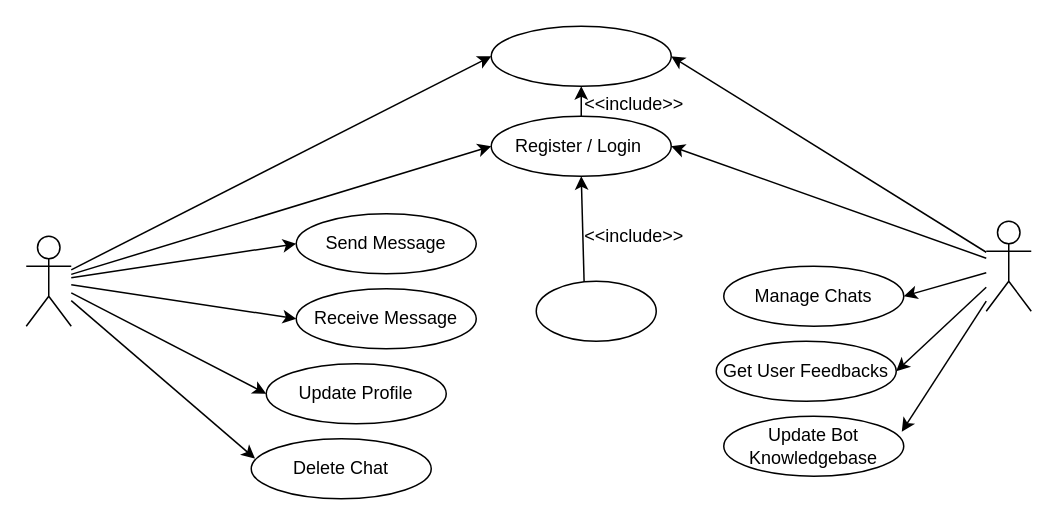
The diagram is 1061 pixels wide and 525 high, and some of its shapes have lost their labels. Each missing label, with the box of its shape:
Admin: (985, 220, 1031, 311)
ChatBot: (535, 280, 656, 341)
User: (25, 235, 71, 326)
View Profile: (490, 25, 671, 86)
